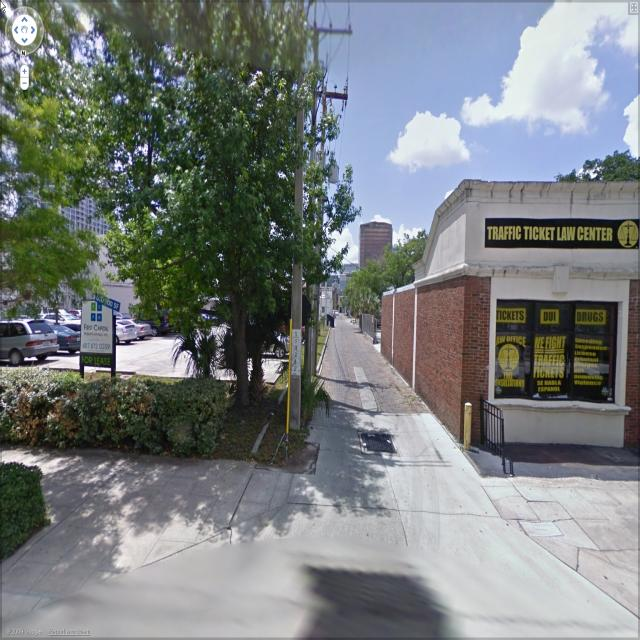b_1: (383, 170, 635, 472), (350, 210, 400, 278)
b_2: (18, 98, 122, 308)
